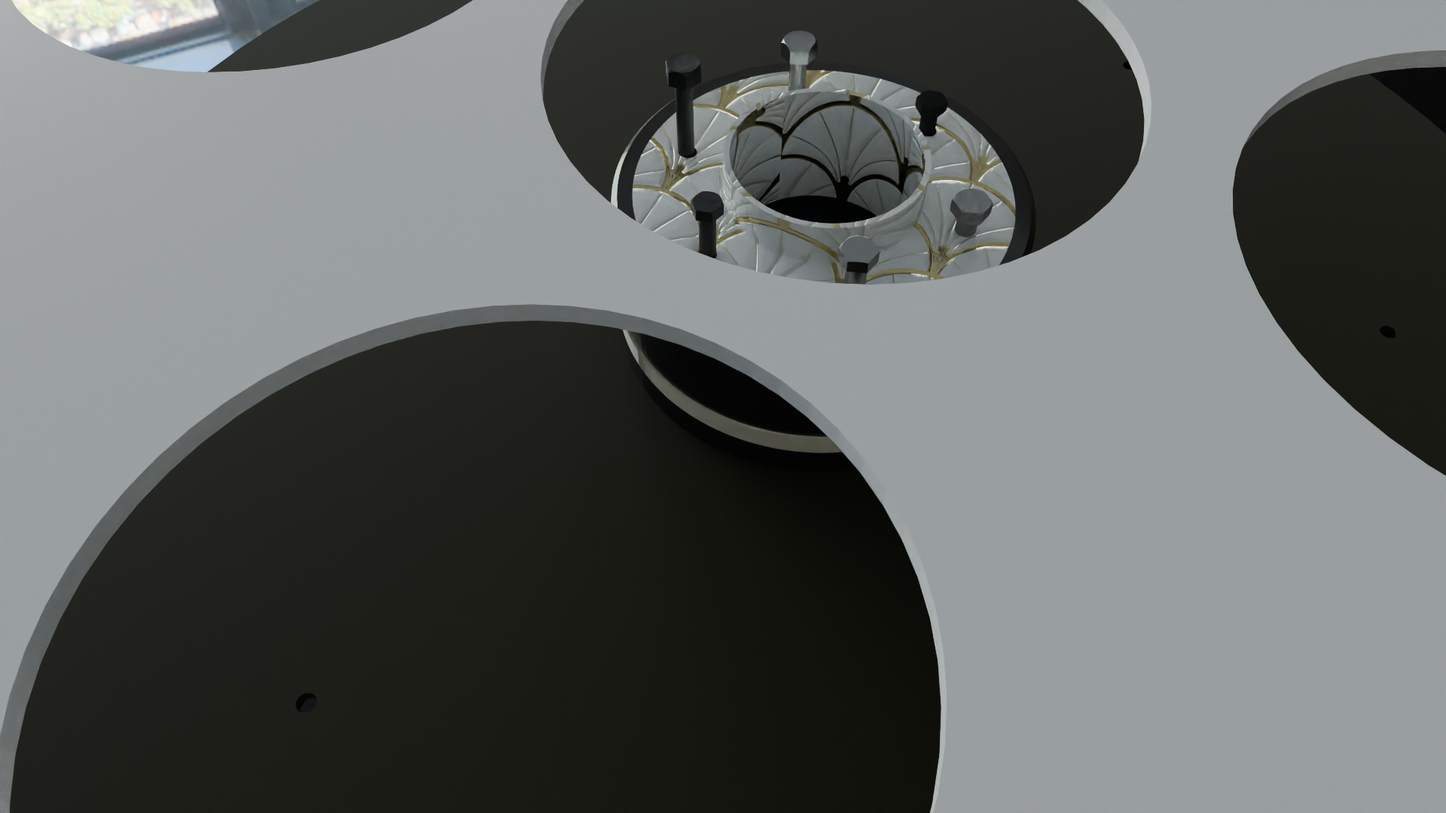bolt: (952, 188, 993, 215), (839, 236, 880, 263), (666, 53, 701, 78), (782, 31, 818, 53), (691, 191, 724, 214), (917, 90, 947, 109)
